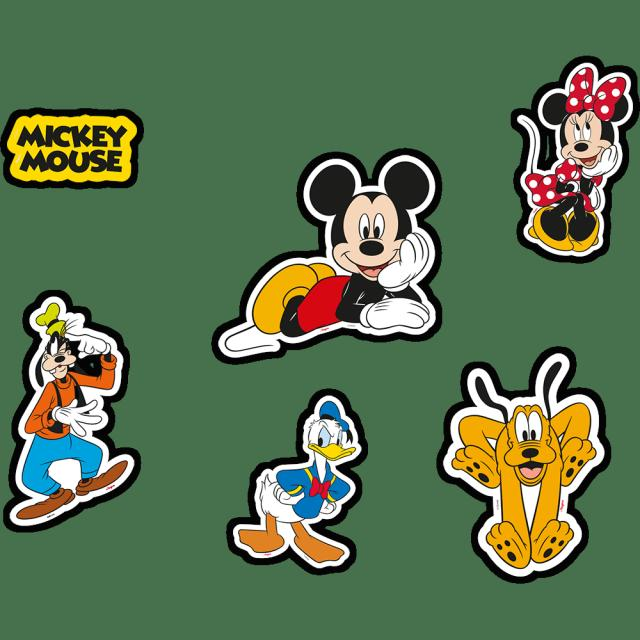mickey: (221, 142, 454, 360)
